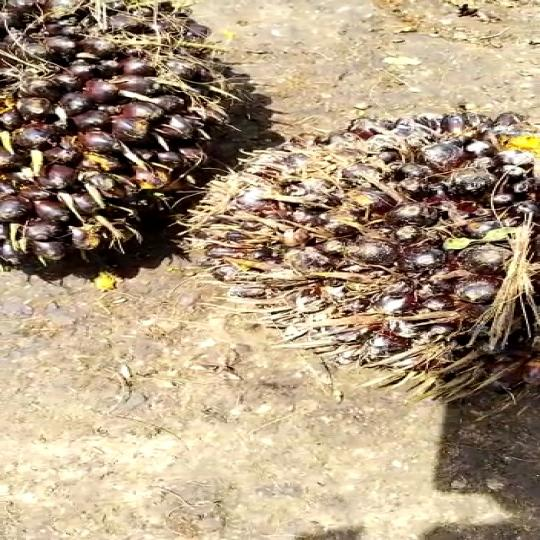mentah: (188, 113, 540, 412), (0, 5, 242, 272)
